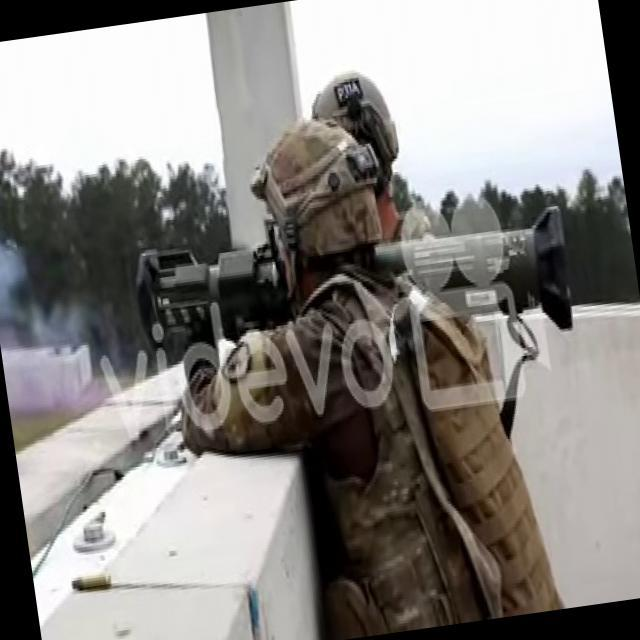rocket: (133, 183, 580, 401)
